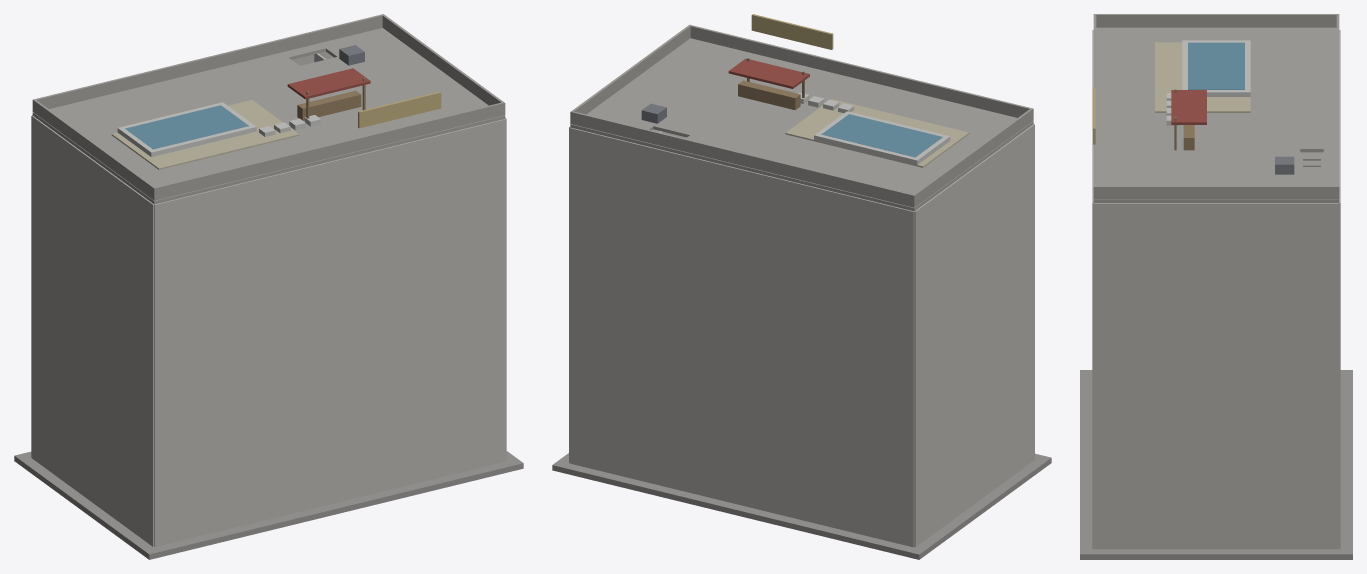
File: hotel.glb
The picture shows the model from 3 angles, left to right: view 1: azimuth 30°, elevation 25°; view 2: azimuth 150°, elevation 25°; view 3: azimuth 270°, elevation 25°; orthographic projection. The views are drawn at different scales.
Visible parts, largest first — view 1: Hotel_roof_a, Hotel_F07_wallS, Hotel_F01_wallS, Hotel_F06_wallS, Hotel_F05_wallS, Hotel_F03_wallS, Hotel_F02_wallS, Hotel_F04_wallS, Hotel_F00_wallS, Hotel_foundation, Hotel_roof_b, Hotel_F07_wallW (+18 smaller); view 2: Hotel_roof_a, Hotel_F07_wallN, Hotel_F03_wallN, Hotel_F02_wallN, Hotel_F04_wallN, Hotel_F06_wallN, Hotel_F01_wallN, Hotel_F05_wallN, Hotel_F00_wallN, Hotel_foundation, Hotel_roof_b, Hotel_F07_wallW (+18 smaller); view 3: Hotel_roof_a, Hotel_F01_wallE, Hotel_F04_wallE, Hotel_F07_wallE, Hotel_F02_wallE, Hotel_F03_wallE, Hotel_F05_wallE, Hotel_F06_wallE, Hotel_F00_wallE, Hotel_foundation, Hotel_roof_b, Hotel_roof_d (+11 smaller).
Boxes of the visible parts, x1,y1,x2,y2 form: Hotel_roof_a: [32, 52, 402, 204]; Hotel_F07_wallS: [154, 119, 505, 247]; Hotel_F01_wallS: [154, 376, 505, 504]; Hotel_F06_wallS: [154, 162, 505, 290]; Hotel_F05_wallS: [154, 205, 505, 333]; Hotel_F03_wallS: [154, 291, 505, 418]; Hotel_F02_wallS: [154, 333, 505, 461]; Hotel_F04_wallS: [154, 248, 505, 376]; Hotel_F00_wallS: [154, 419, 505, 546]; Hotel_foundation: [14, 451, 523, 559]; Hotel_roof_b: [319, 28, 505, 134]; Hotel_F07_wallW: [31, 115, 154, 247]; Hotel_roof_a: [671, 62, 1033, 211]; Hotel_F07_wallN: [569, 127, 914, 253]; Hotel_F03_wallN: [569, 296, 914, 421]; Hotel_F02_wallN: [569, 338, 914, 463]; Hotel_F04_wallN: [569, 254, 914, 379]; Hotel_F06_wallN: [569, 170, 914, 295]; Hotel_F01_wallN: [569, 380, 914, 505]; Hotel_F05_wallN: [569, 212, 914, 337]; Hotel_F00_wallN: [569, 422, 914, 547]; Hotel_foundation: [552, 453, 1051, 559]; Hotel_roof_b: [570, 38, 752, 142]; Hotel_F07_wallW: [914, 124, 1034, 253]; Hotel_roof_a: [1096, 27, 1336, 152]; Hotel_F01_wallE: [1093, 463, 1339, 506]; Hotel_F04_wallE: [1093, 333, 1339, 376]; Hotel_F07_wallE: [1093, 203, 1339, 246]; Hotel_F02_wallE: [1093, 420, 1339, 463]; Hotel_F03_wallE: [1093, 376, 1339, 419]; Hotel_F05_wallE: [1093, 290, 1339, 333]; Hotel_F06_wallE: [1093, 247, 1339, 290]; Hotel_F00_wallE: [1093, 506, 1339, 549]; Hotel_foundation: [1080, 370, 1352, 559]; Hotel_roof_b: [1093, 167, 1339, 202]; Hotel_roof_d: [1096, 149, 1300, 167].
Bounding box in the file's own units: 32 × 31.86 × 20.
